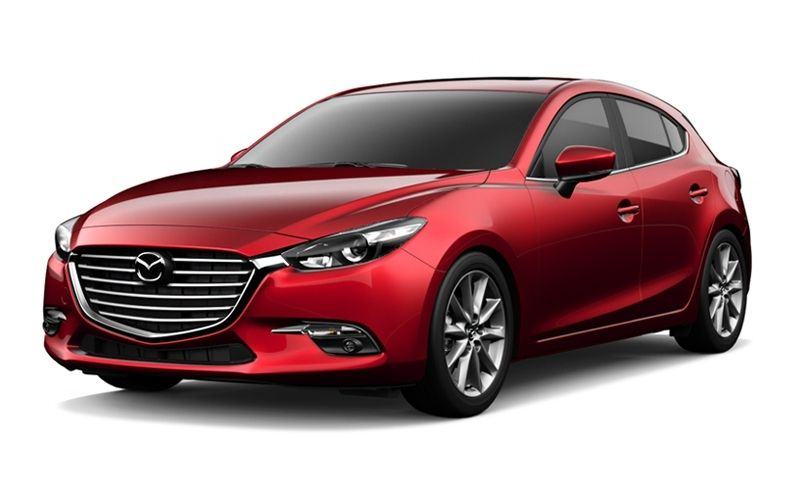car: (32, 64, 761, 418)
